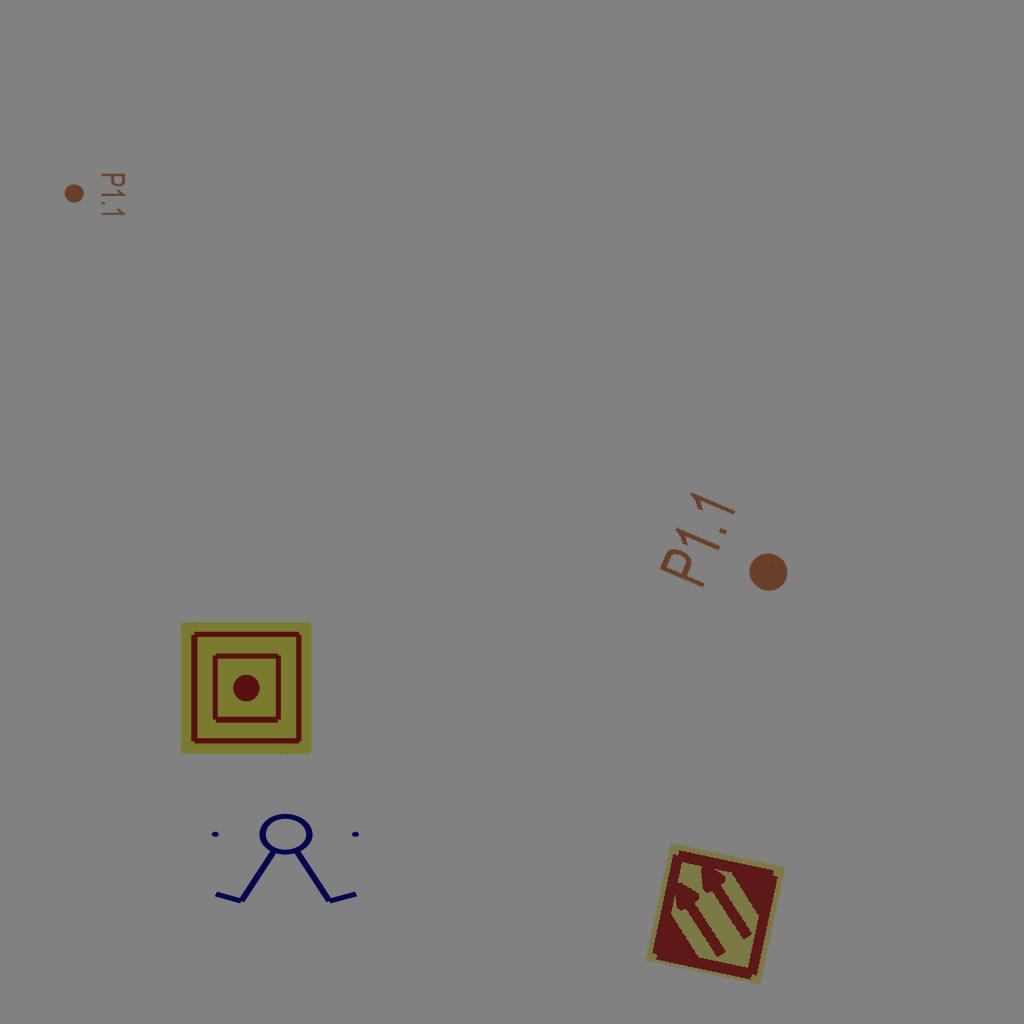ASR_Ansaugrauchmelder: (641, 839, 790, 988)
Downlight_LED_Einbauleuchten_Flur: (654, 485, 809, 621), (63, 172, 127, 218)
NAM-Nichtautomatischer_Melder: (180, 622, 312, 754)
Serienschalter: (203, 812, 371, 908)
